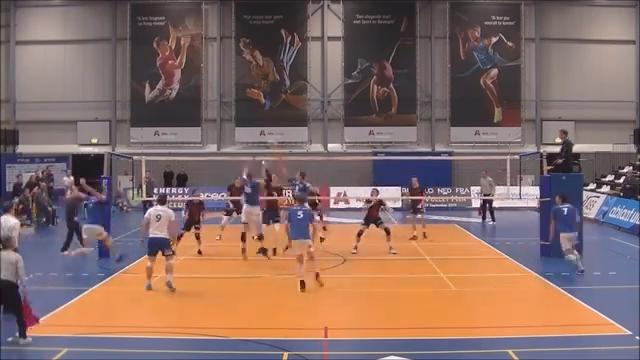alzata: (276, 155, 328, 243)
